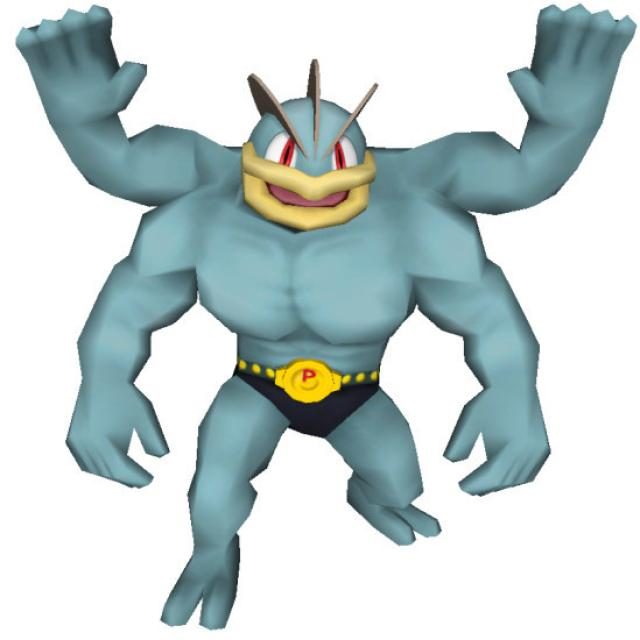Machamp: (79, 63, 553, 540)
